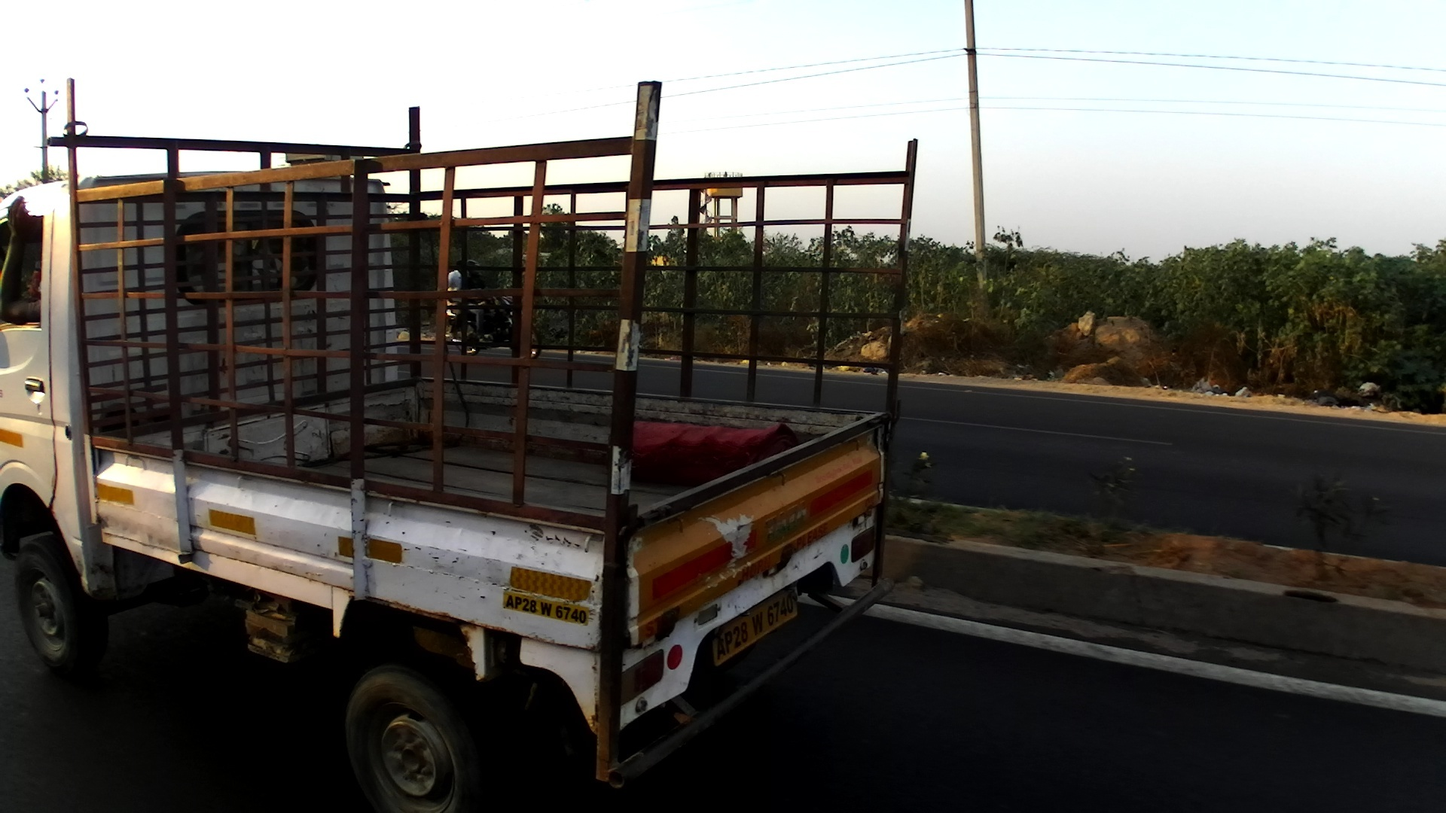truck: (1, 82, 923, 813)
